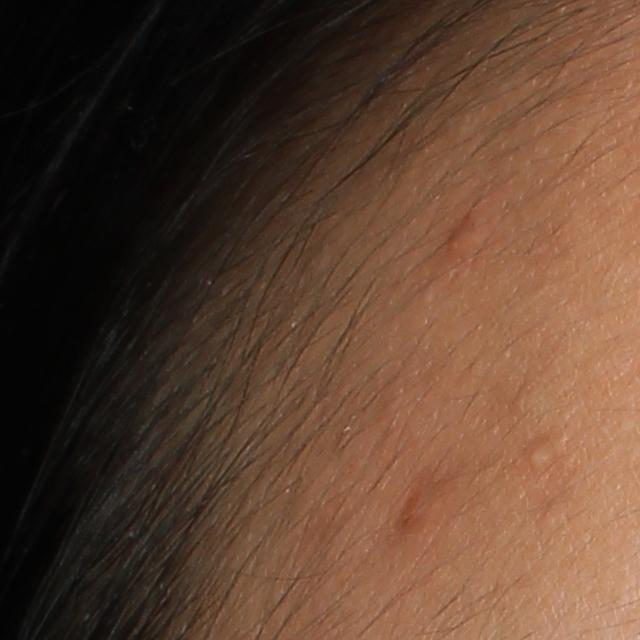comedo: (526, 437, 556, 472)
papule: (445, 217, 486, 264)
